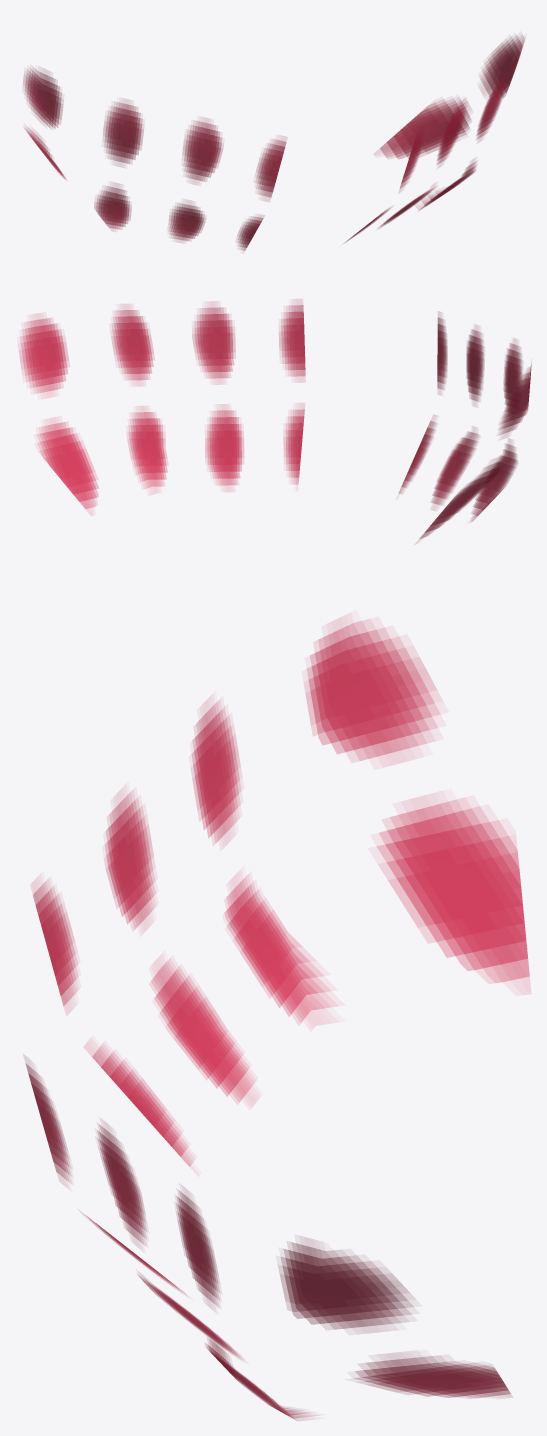
The picture shows the model from 3 angles, top to bottom: view 1: azimuth 30°, elevation 25°; view 2: azimuth 150°, elevation 25°; view 3: azimuth 270°, elevation 25°; orthographic projection. The views are drawn at different scales.
Visible parts, largest first — view 1: ef_513; view 2: ef_513; view 3: ef_513.
Part boxes in pixels (<box>): ef_513: <box>23,35,524,250</box>; ef_513: <box>19,299,531,543</box>; ef_513: <box>23,617,530,1420</box>.
Bounding box in the file's own units: 0.6001 × 0.2789 × 0.2699.
Materials: 1 (1 with a texture image).
